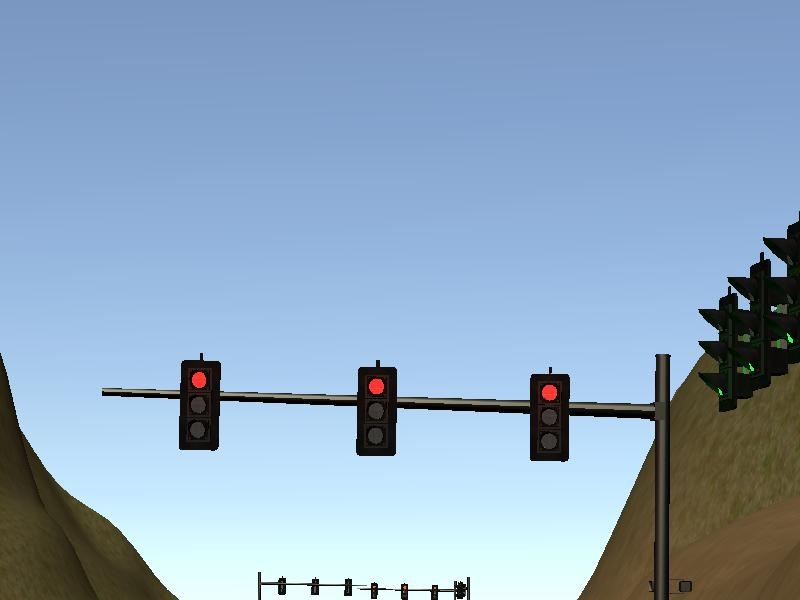RED: (355, 367, 397, 456), (176, 358, 218, 447), (529, 373, 571, 462)
